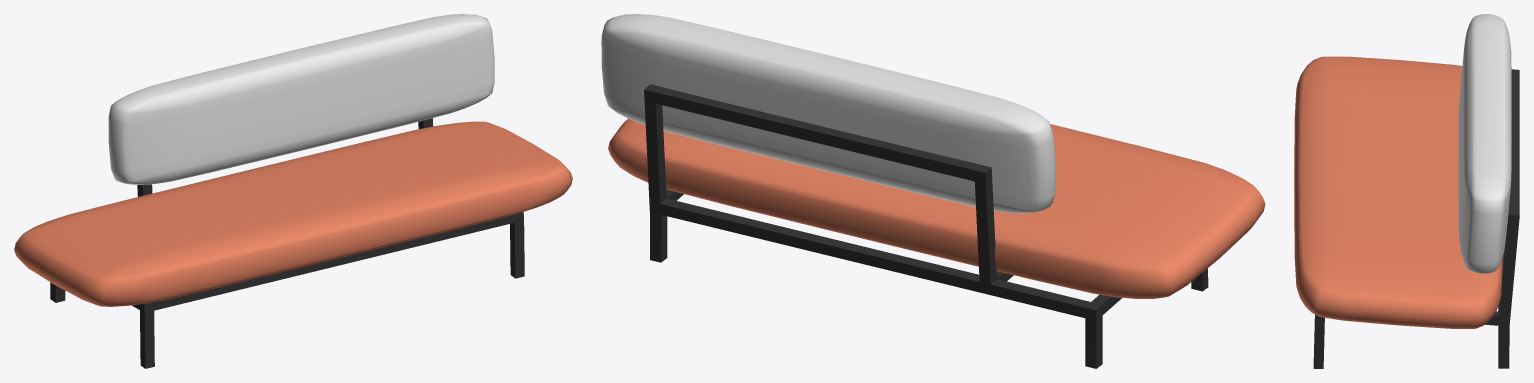
Rendered from LobbyCouch.fbx.
3 renders of one model, left to right at view 1: azimuth 30°, elevation 25°; view 2: azimuth 150°, elevation 25°; view 3: azimuth 270°, elevation 25°, orthographic. The views are drawn at different scales.
Parts seen in each view (by area): view 1: Couch_2; view 2: Couch_2; view 3: Couch_2.
Part boxes in pixels (bbox=[...]): Couch_2: bbox=[14, 14, 572, 368]; Couch_2: bbox=[601, 14, 1265, 368]; Couch_2: bbox=[1294, 14, 1519, 368].
Bounding box in the file's own units: 52.33 × 19.92 × 20.27.
